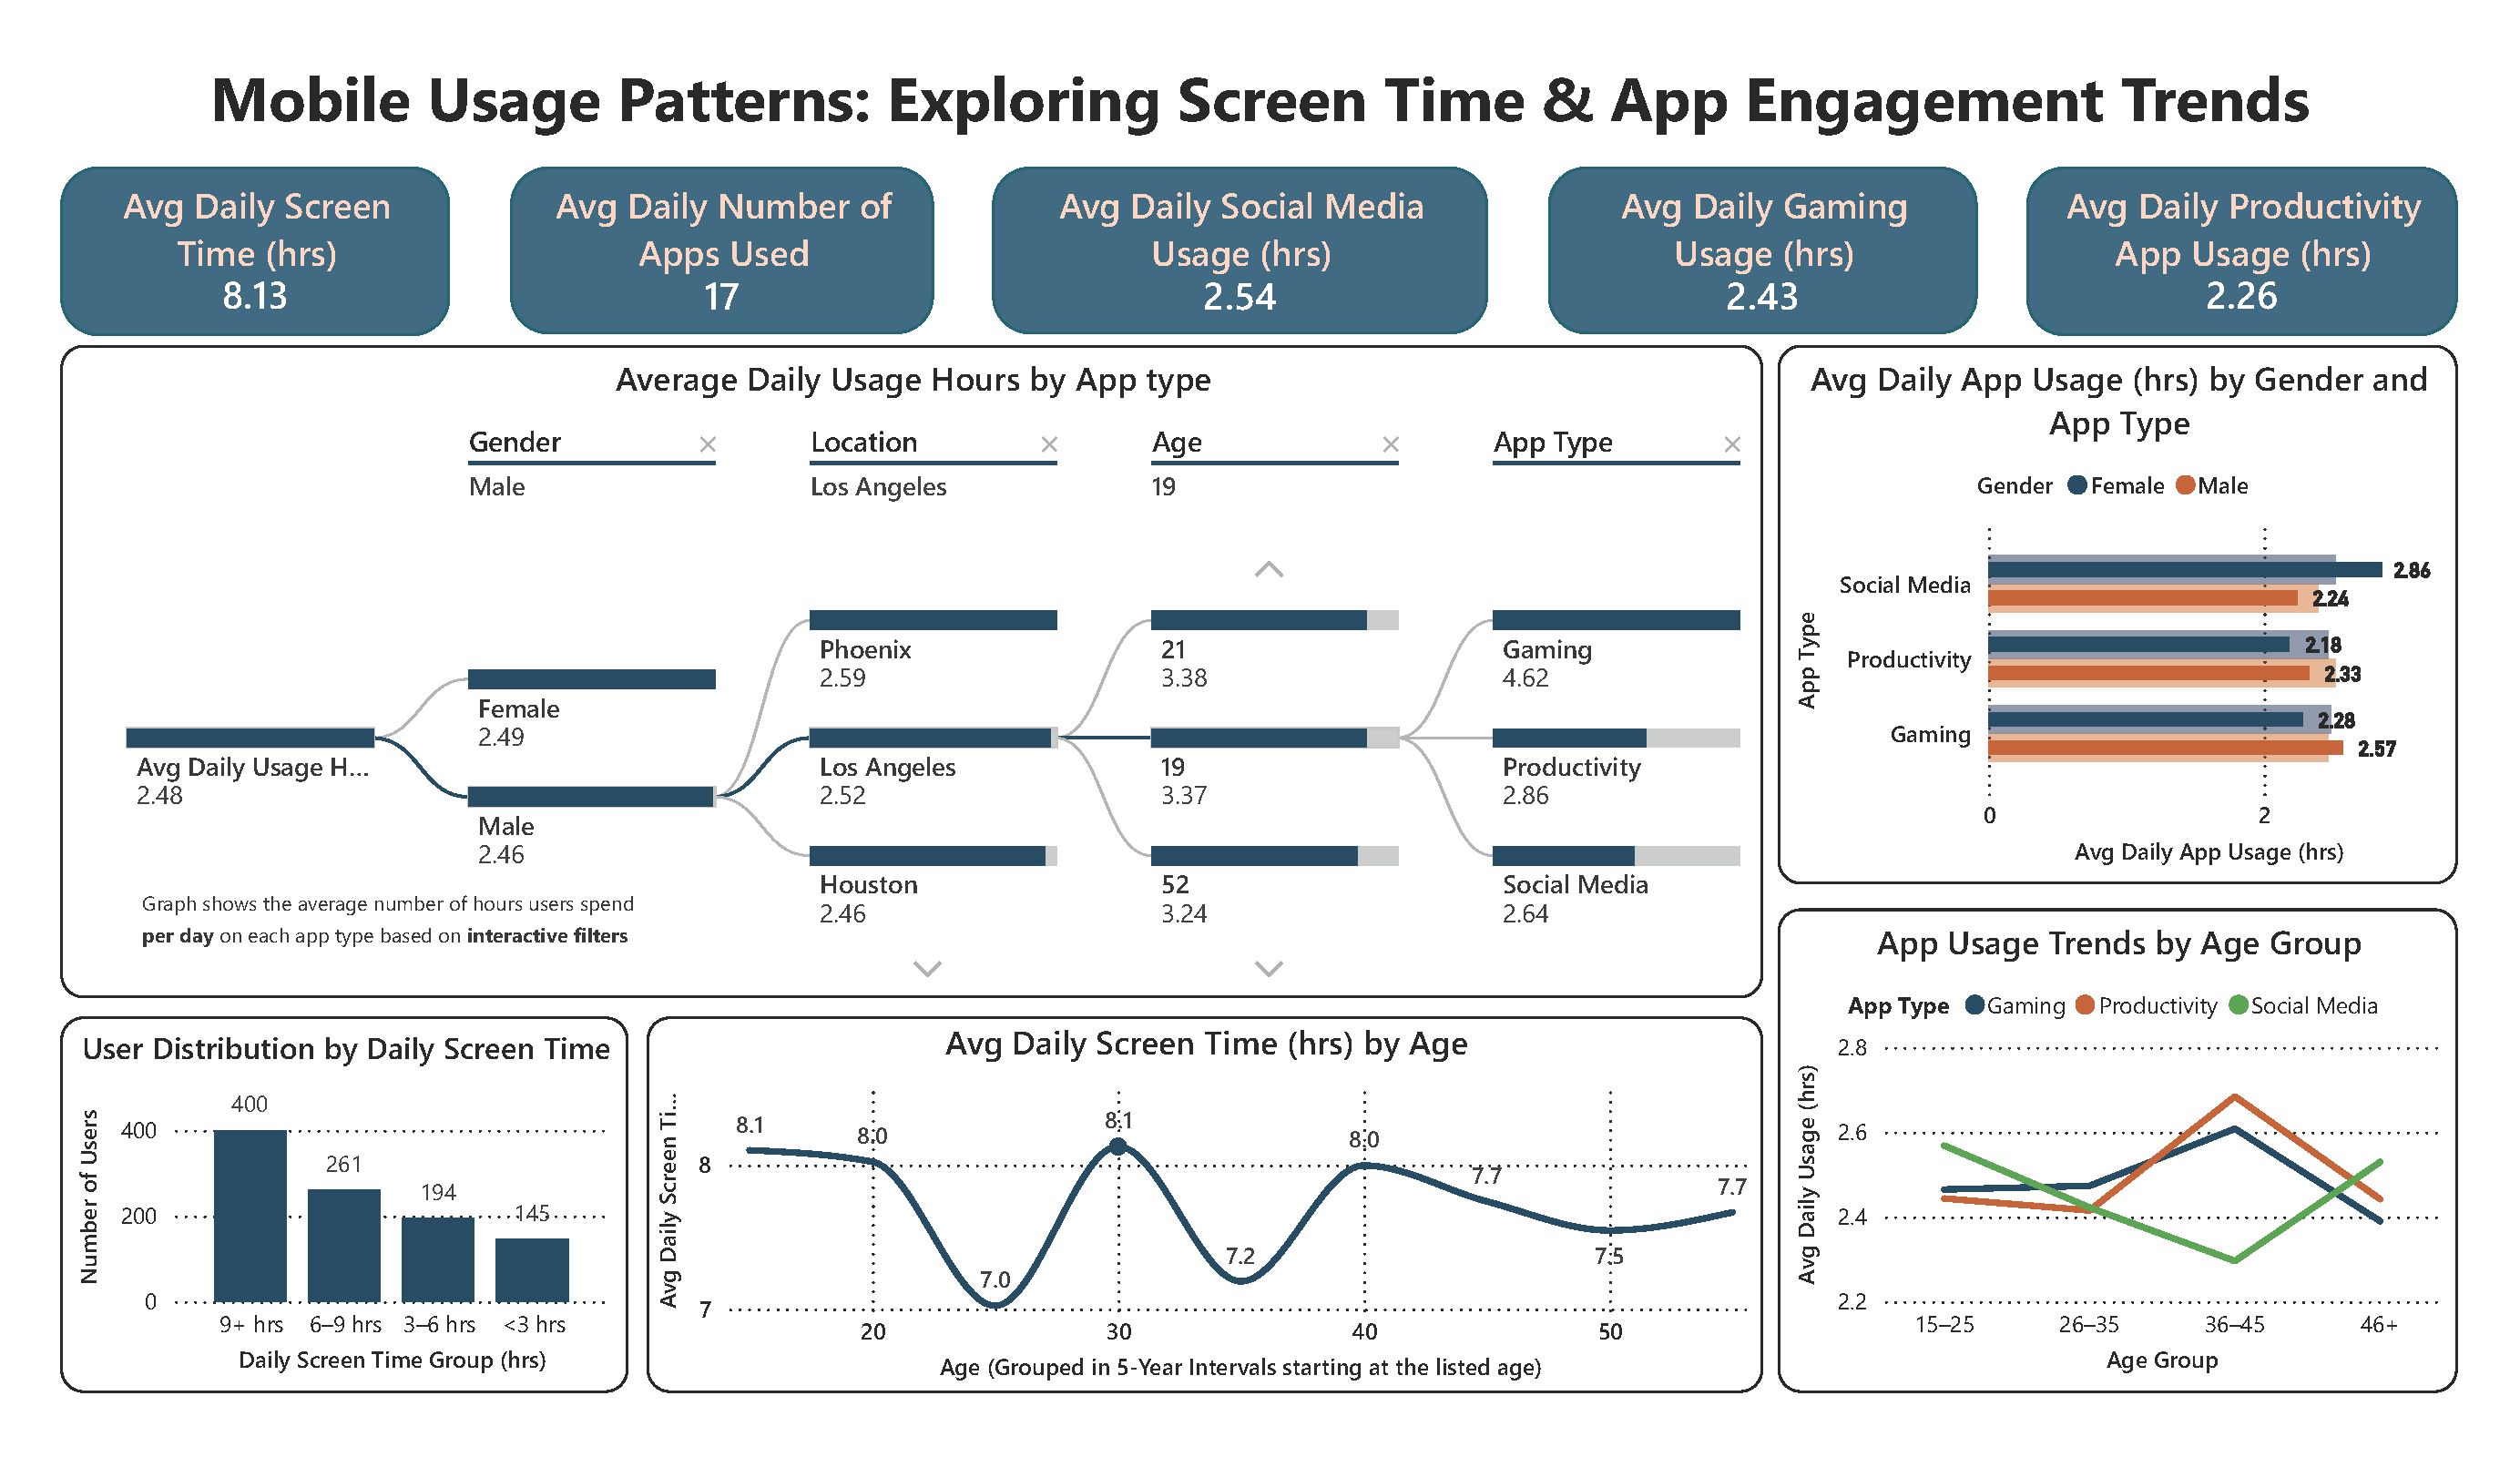

The page's visual inventory and layout, read from the dashboard file:
{"tool":"powerbi","page":{"name":"Page 1","canvas":[1280,720],"ordinal":0},"visuals":[{"type":"textbox","box":[0,0,1280,75.8],"z":0},{"type":"decompositionTreeVisual","title":"Average Daily Usage Hours by App type","fields":{"ExplainBy":["mobile_usage_behavioral_analysis.Gender","mobile_usage_behavioral_analysis.Location","mobile_usage_behavioral_analysis.Age","App_Usage_By_Type.App_Usage_Type"],"Analyze":["App_Usage_By_Type.Avg Daily Usage Hours by App Type"]},"box":[8.1,157.6,897.3,343.9],"z":0,"group":"g1"},{"type":"card","title":"Avg Daily Screen Time (hrs)","fields":{"Values":["Avg(mobile_usage_behavioral_analysis.Daily_Screen_Time_Hours)"]},"box":[8.1,63.6,205.1,89],"z":1000},{"type":"card","title":"Avg Daily Number of Apps Used","fields":{"Values":["Avg(mobile_usage_behavioral_analysis.Number_of_Apps_Used)"]},"box":[245.4,63.6,223,88.7],"z":2000},{"type":"card","title":"Avg Daily Social Media Usage (hrs)","fields":{"Values":["Avg(mobile_usage_behavioral_analysis.Social_Media_Usage_Hours)"]},"box":[499,63.6,260.6,88.7],"z":3000},{"type":"card","title":"Avg Daily Productivity App Usage (hrs)","fields":{"Values":["Avg(mobile_usage_behavioral_analysis.Productivity_App_Usage_Hours)"]},"box":[1044.2,63.6,226.6,89],"z":4000},{"type":"card","title":"Avg Daily Gaming Usage (hrs)","fields":{"Values":["Avg(mobile_usage_behavioral_analysis.Gaming_App_Usage_Hours)"]},"box":[791.6,63.6,226.6,88.7],"z":5000},{"type":"lineChart","title":"Avg Daily Screen Time (hrs) by Age","fields":{"Y":["Avg(mobile_usage_behavioral_analysis.Daily_Screen_Time_Hours)"],"Category":["mobile_usage_behavioral_analysis.Age (bins)"]},"box":[317,512.2,588.4,197.9],"z":6000},{"type":"clusteredColumnChart","title":"User Distribution by Daily Screen Time","fields":{"Category":["mobile_usage_behavioral_analysis.ScreenTimeGroup"],"Y":["CountNonNull(mobile_usage_behavioral_analysis.User_ID)"]},"box":[8.1,512.2,299.1,197.9],"z":7000},{"type":"clusteredBarChart","title":"Avg Daily App Usage (hrs) by Gender and App Type","fields":{"Category":["App_Usage_By_Type.App Type"],"Y":["Avg(App_Usage_By_Type.Usage_Hours)"],"Series":["GenderLookup.Gender"]},"box":[913.4,157.6,357.3,284.8],"z":8000},{"type":"lineChart","title":"App Usage Trends by Age Group","fields":{"Y":["Avg(App_Usage_By_Type.Usage_Hours)"],"Series":["App_Usage_By_Type.App Type"],"Category":["App_Usage_By_Type.Age_Group"]},"box":[913.4,454.9,357.3,255.2],"z":9000},{"type":"textbox","box":[45.9,436.5,281.6,61.4],"z":11000,"group":"g1"},{"type":"group","id":"g1","title":"Group 1","box":[8.1,157.6,897.3,343.9],"z":11001}]}

Visuals, with their boxes in screenshot pixels (x1, y1, x2, y2):
textbox: rect(59, 46, 2456, 188)
"Average Daily Usage Hours by App type" decompositionTreeVisual: rect(75, 341, 1755, 985)
"Avg Daily Screen Time (hrs)" card: rect(75, 165, 458, 331)
"Avg Daily Number of Apps Used" card: rect(518, 165, 936, 331)
"Avg Daily Social Media Usage (hrs)" card: rect(994, 165, 1482, 331)
"Avg Daily Productivity App Usage (hrs)" card: rect(2015, 165, 2439, 331)
"Avg Daily Gaming Usage (hrs)" card: rect(1542, 165, 1966, 331)
"Avg Daily Screen Time (hrs) by Age" lineChart: rect(653, 1005, 1755, 1376)
"User Distribution by Daily Screen Time" clusteredColumnChart: rect(75, 1005, 635, 1376)
"Avg Daily App Usage (hrs) by Gender and App Type" clusteredBarChart: rect(1770, 341, 2439, 874)
"App Usage Trends by Age Group" lineChart: rect(1770, 898, 2439, 1376)
textbox: rect(145, 863, 672, 978)
"Group 1" group: rect(75, 341, 1755, 985)
